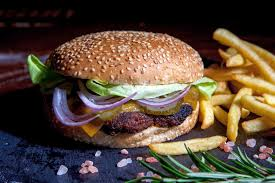hamburger: (40, 27, 209, 150)
